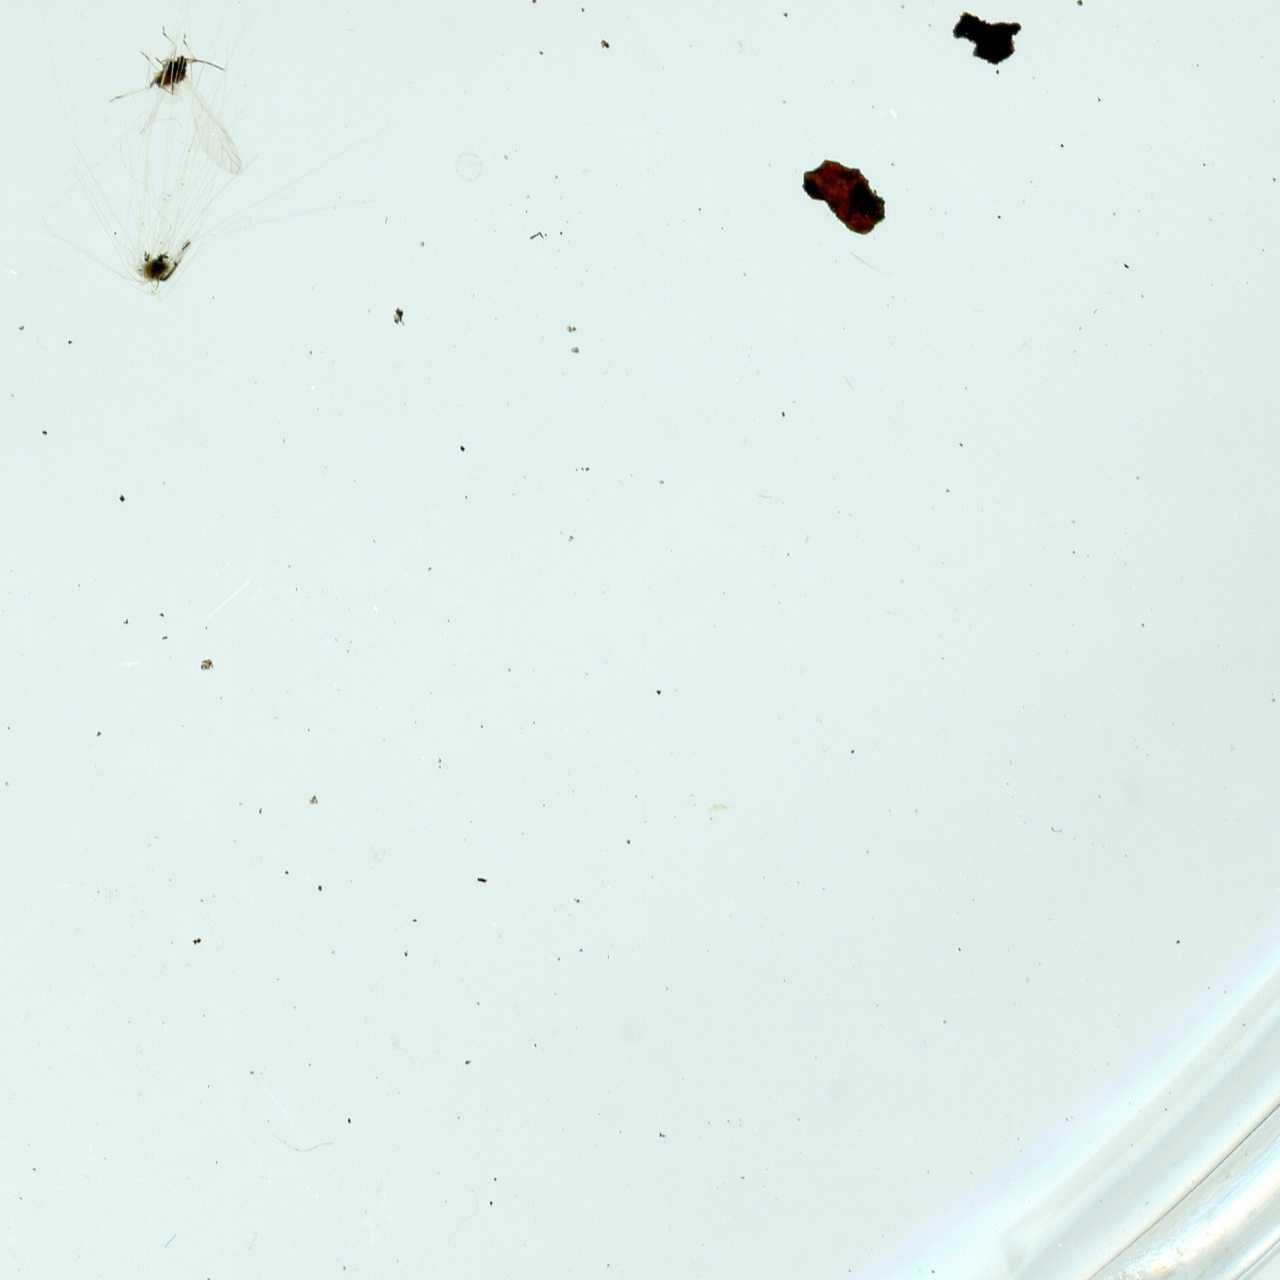arthropod: (104, 15, 252, 188)
